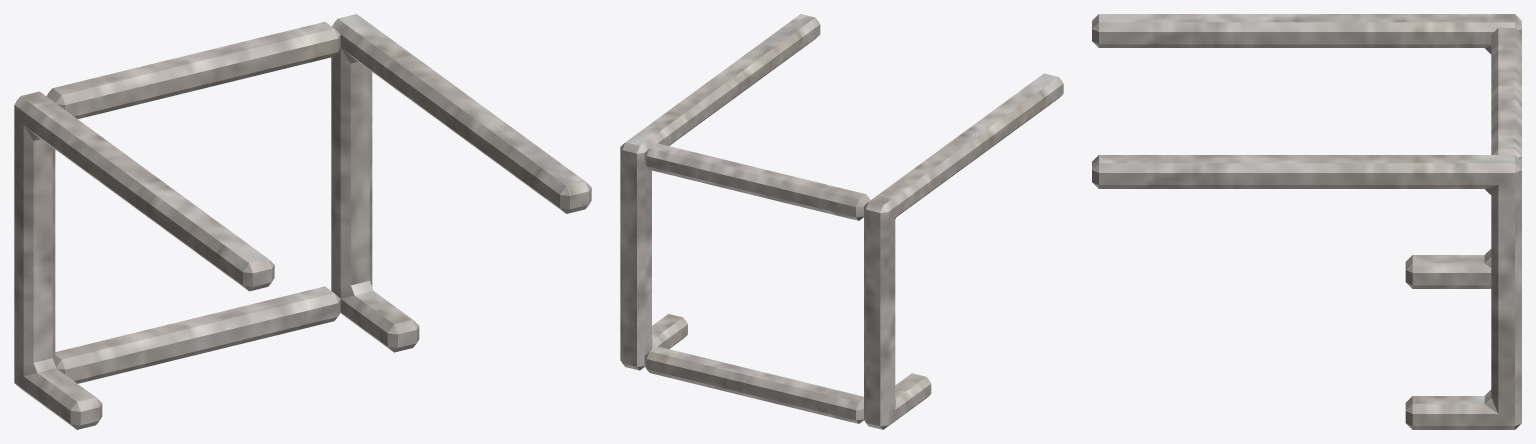
3 renders of one model, left to right at view 1: azimuth 30°, elevation 25°; view 2: azimuth 150°, elevation 25°; view 3: azimuth 270°, elevation 25°, orthographic. The views are drawn at different scales.
Bounding box in the file's own units: 0.9935 × 0.7967 × 1.16.
1 material, 1 textured.
